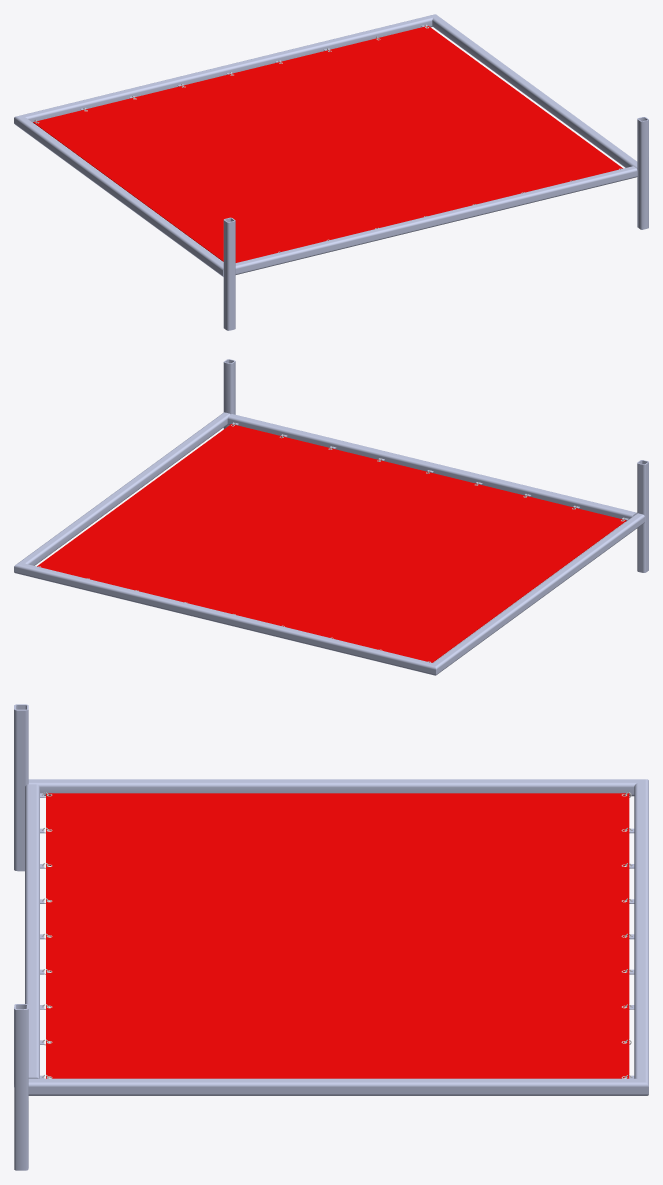
File: WeldCurtain.FBX
3 renders of one model, top to bottom at view 1: azimuth 30°, elevation 25°; view 2: azimuth 150°, elevation 25°; view 3: azimuth 270°, elevation 25°, orthographic. The views are drawn at different scales.
Parts seen in each view (by area): view 1: stitch_result_stitch all (×7); view 2: stitch_result_stitch all (×7); view 3: stitch_result_stitch all (×7).
Boxes of the visible parts, x1,y1,x2,y2 form: stitch_result_stitch all (×7): (14, 14, 648, 330); stitch_result_stitch all (×7): (14, 359, 648, 675); stitch_result_stitch all (×7): (14, 704, 648, 1170).
Size of the model in its own units: 2.49 by 2.18 by 0.6096.
